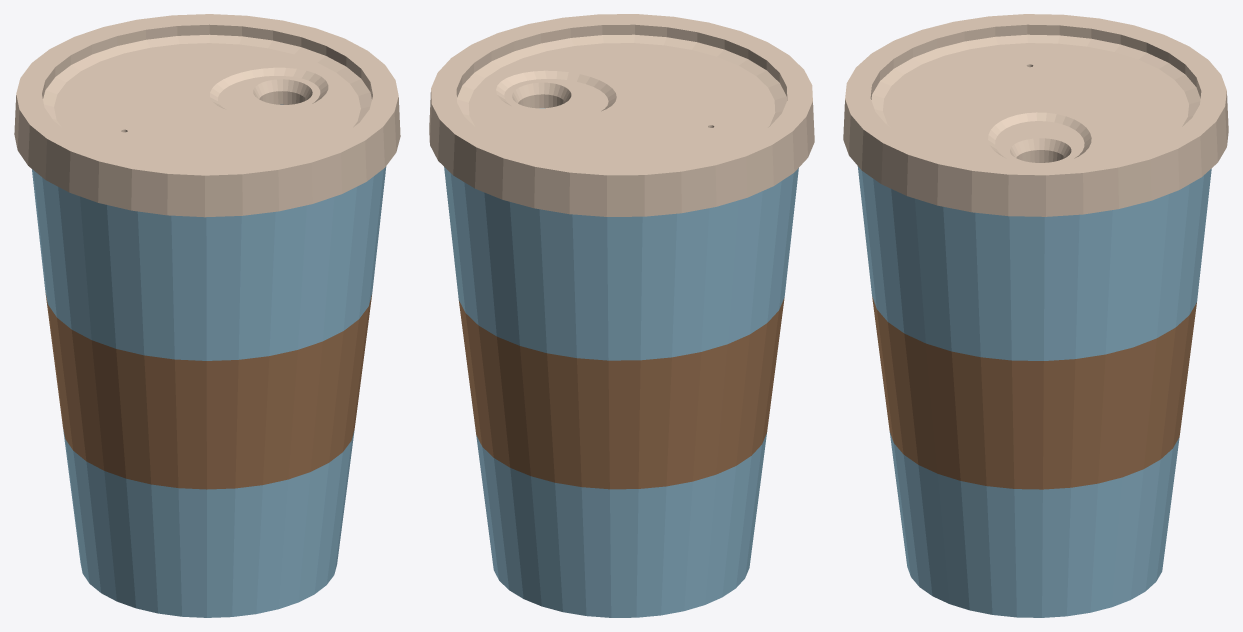
Rendered from Large Coffee.fbx.
The picture shows the model from 3 angles, left to right: view 1: azimuth 30°, elevation 25°; view 2: azimuth 150°, elevation 25°; view 3: azimuth 270°, elevation 25°; orthographic projection.
Visible parts, largest first — view 1: Large Coffee; view 2: Large Coffee; view 3: Large Coffee.
Boxes of the visible parts, x1=… form: Large Coffee: x1=14, y1=14, x2=400, y2=617; Large Coffee: x1=429, y1=14, x2=814, y2=617; Large Coffee: x1=843, y1=14, x2=1228, y2=617.
Size of the model in its own units: 23.58 by 31.63 by 23.58.
Materials: 1 (1 with a texture image).
